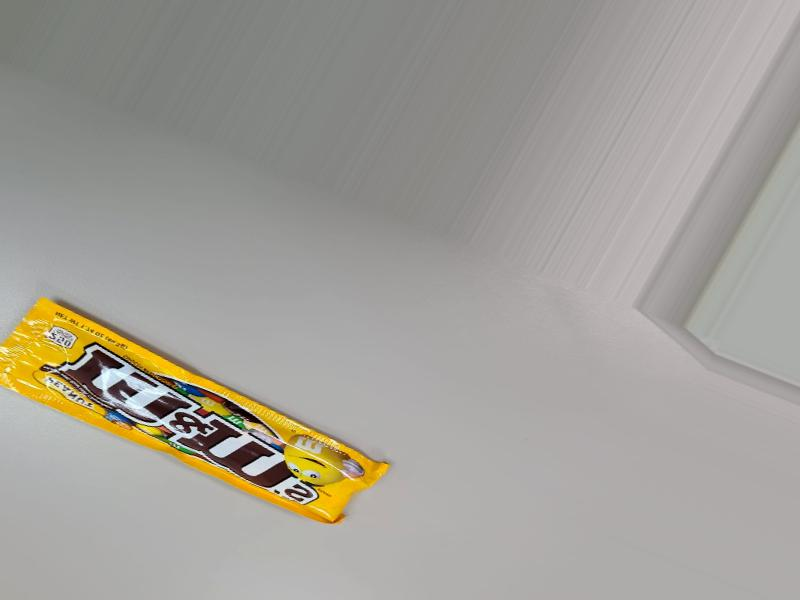m&m: (0, 312, 398, 531)
